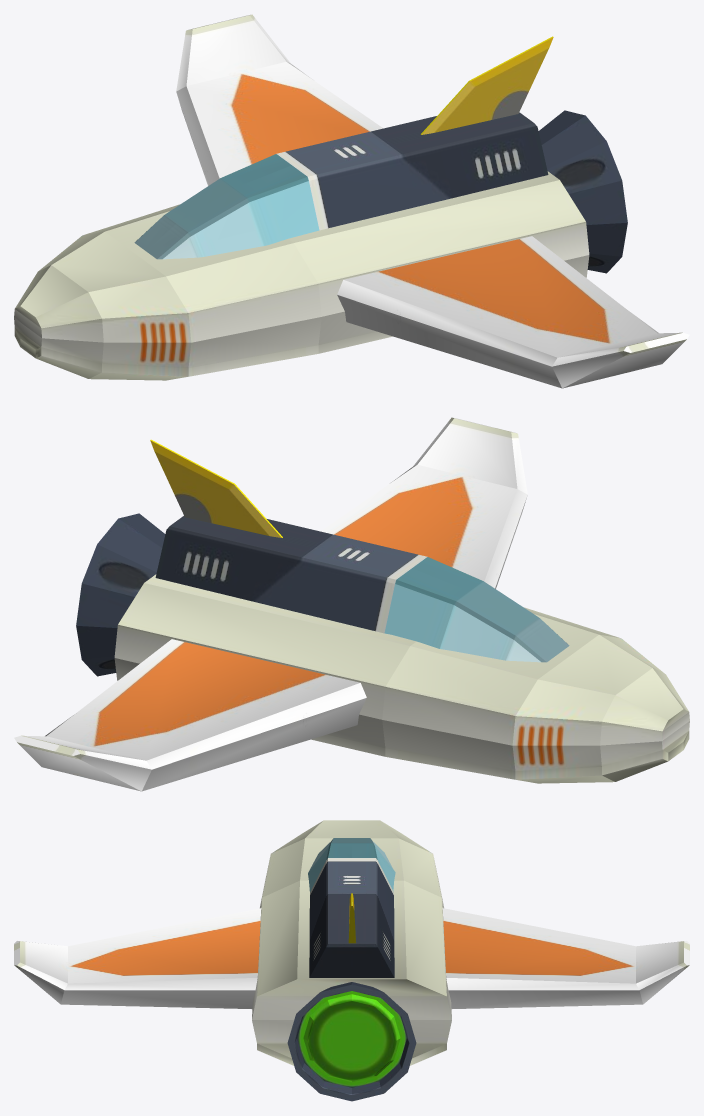
Rendered from spaceship.gltf.
3 views of the same model, one above another, from view 1: azimuth 30°, elevation 25°; view 2: azimuth 150°, elevation 25°; view 3: azimuth 270°, elevation 25° (orthographic). The views are drawn at different scales.
Parts seen in each view (by area): view 1: spaceship; view 2: spaceship; view 3: spaceship.
Boxes of the visible parts, box(x1,y1,x2,y2) form: spaceship: box(14, 14, 689, 388); spaceship: box(14, 417, 689, 791); spaceship: box(14, 820, 689, 1101).
Bounding box in the file's own units: 0.5741 × 0.2355 × 0.7875.
Materials: 1 (1 with a texture image).
